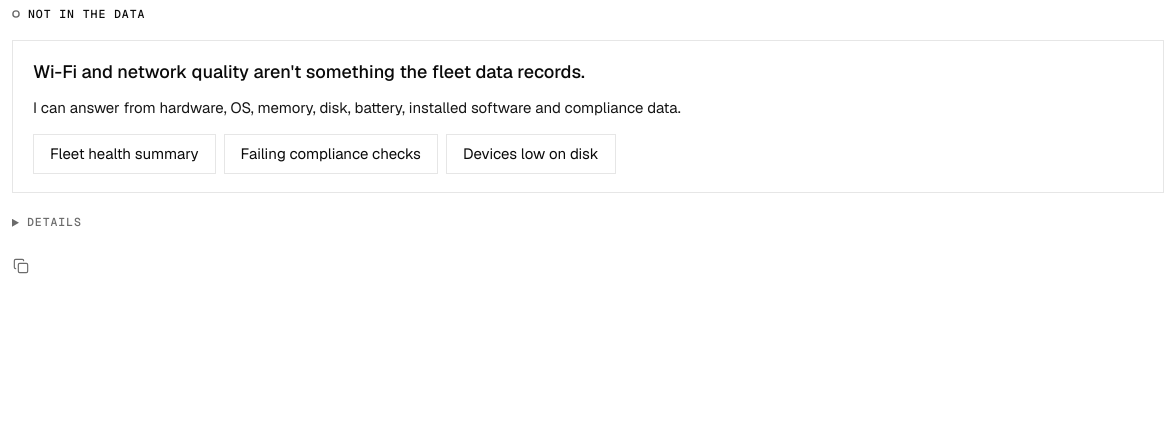
Test: a refusal with alternatives › reads the data_unavailable reason in plain words under Details
Click the button "Details". click: (52, 223)
box: [12,207,92,239]
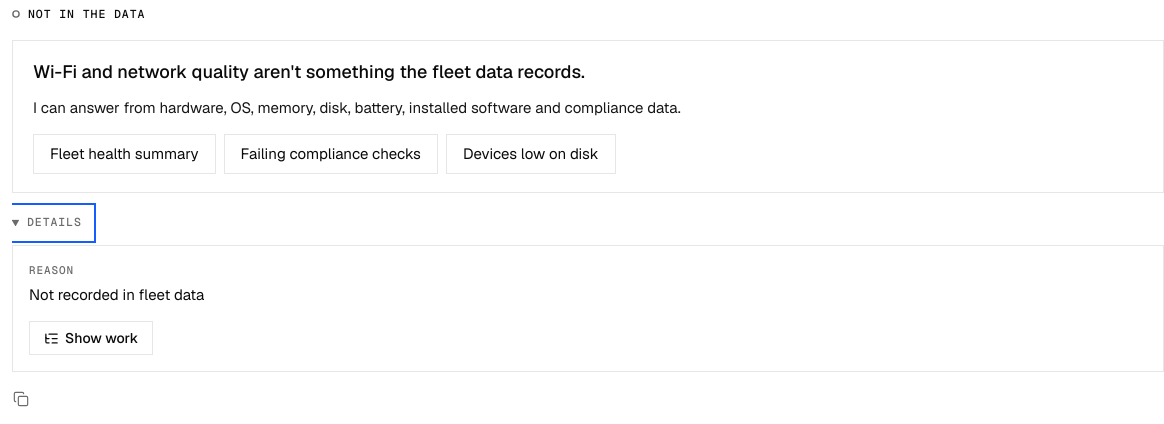
Check: the text "Not recorded in fleet data" is shown, box [29,285,204,304]
